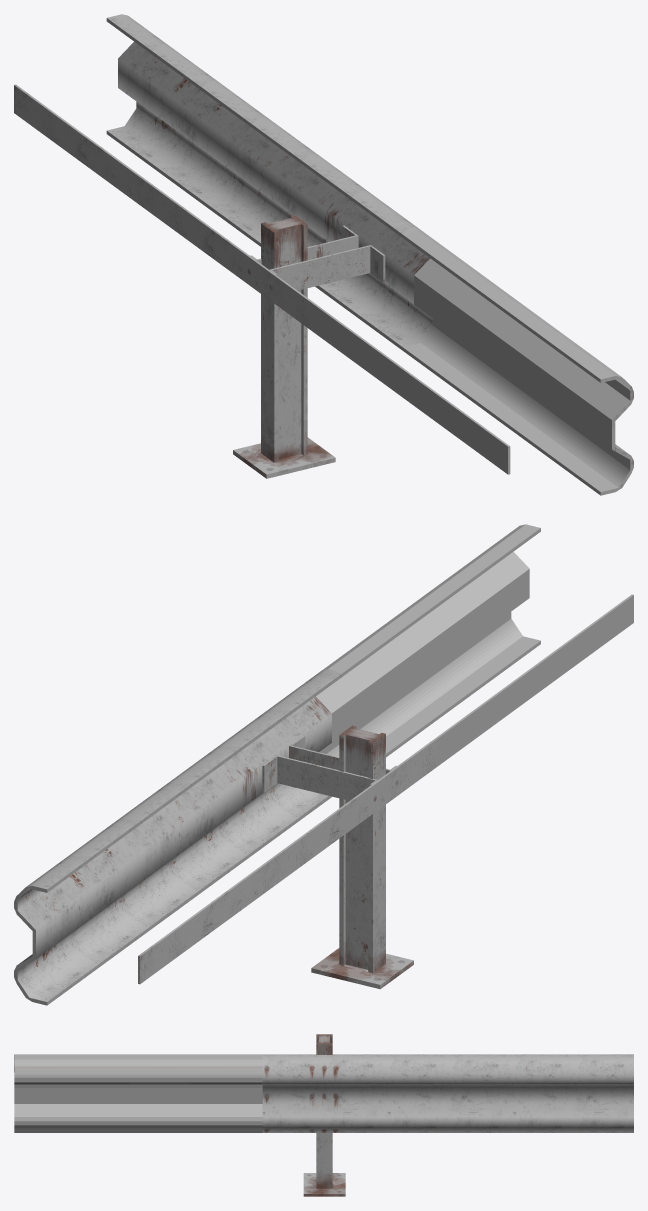
3 views of the same model, one above another, from view 1: azimuth 30°, elevation 25°; view 2: azimuth 150°, elevation 25°; view 3: azimuth 270°, elevation 25° (orthographic). The views are drawn at different scales.
Parts seen in each view (by area): view 1: Object_5; view 2: Object_5; view 3: Object_5.
Part boxes in pixels (<box>): Object_5: <box>14,14,633,495</box>; Object_5: <box>14,524,633,1005</box>; Object_5: <box>14,1034,633,1196</box>.
Bounding box in the file's own units: 0.6519 × 1.11 × 4.08.
1 material, 1 textured.
